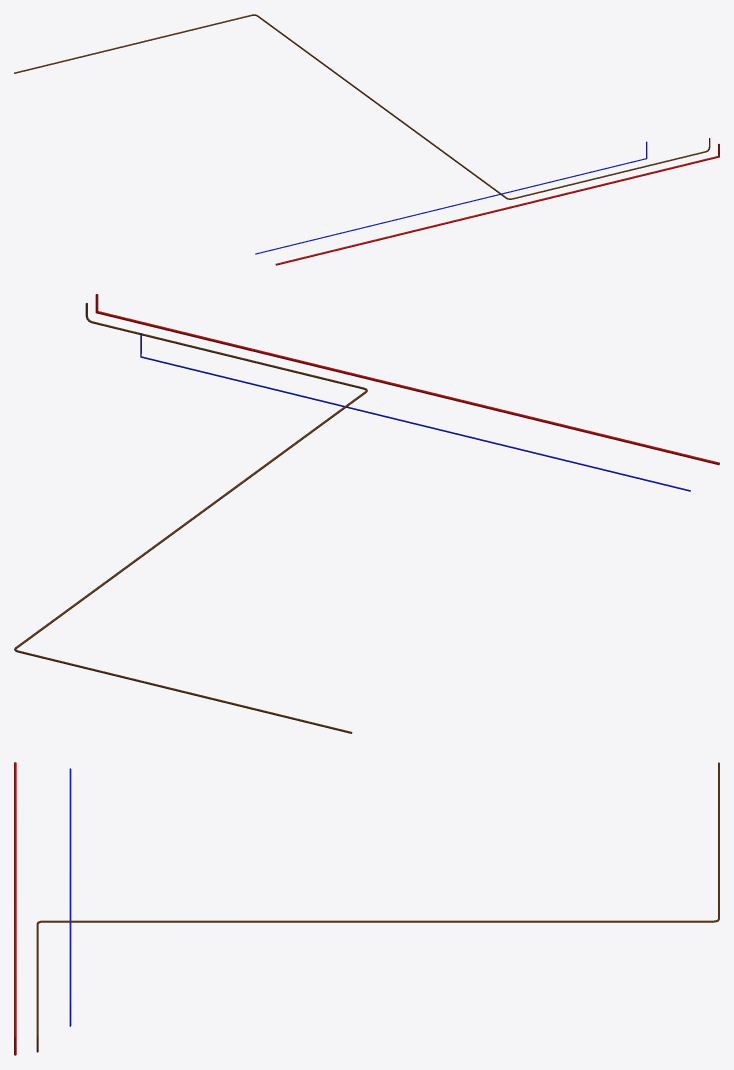
Rendered from pipe_0.dae.
3 renders of one model, top to bottom at view 1: azimuth 30°, elevation 25°; view 2: azimuth 150°, elevation 25°; view 3: azimuth 270°, elevation 25°, orthographic. The views are drawn at different scales.
Parts seen in each view (by area): view 1: __pipe_1, __pipe_3, __pipe_2; view 2: __pipe_1, __pipe_3, __pipe_2; view 3: __pipe_1, __pipe_3, __pipe_2.
Boxes of the visible parts, box(x1,y1,x2,y2) form: __pipe_1: box(14, 14, 710, 199); __pipe_3: box(275, 144, 719, 265); __pipe_2: box(255, 141, 647, 254); __pipe_1: box(14, 303, 367, 733); __pipe_3: box(95, 294, 719, 465); __pipe_2: box(140, 333, 690, 491); __pipe_1: box(36, 762, 719, 1052); __pipe_3: box(14, 762, 16, 1055); __pipe_2: box(69, 768, 71, 1026).
Bounding box in the file's own units: 63.78 × 65.33 × 2.37.
